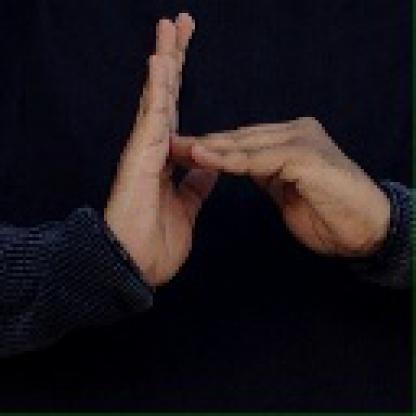Z: (113, 9, 354, 286)
